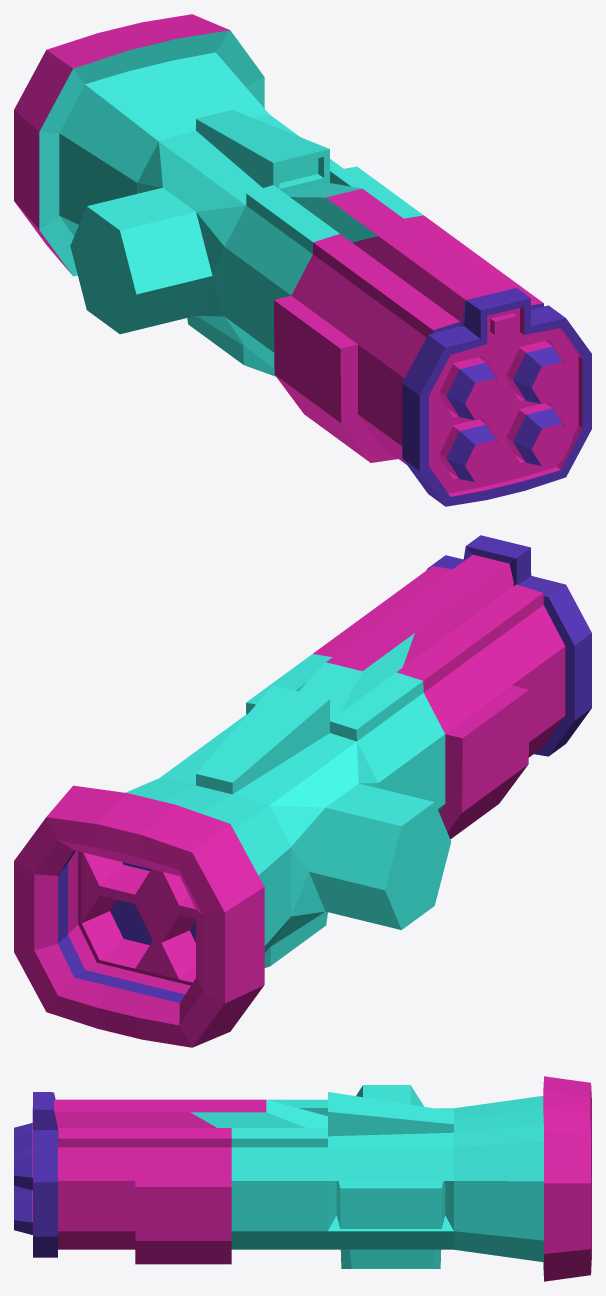
Rendered from Mortar.fbx.
3 views of the same model, one above another, from view 1: azimuth 30°, elevation 25°; view 2: azimuth 150°, elevation 25°; view 3: azimuth 270°, elevation 25° (orthographic). The views are drawn at different scales.
Parts seen in each view (by area): view 1: Mortar; view 2: Mortar; view 3: Mortar.
Part boxes in pixels (left/top/right/bottom): Mortar: left=14, top=14, right=591, bottom=506; Mortar: left=14, top=535, right=591, bottom=1047; Mortar: left=14, top=1076, right=591, bottom=1281.
Size of the model in its own units: 47.45 by 38.1 by 122.
